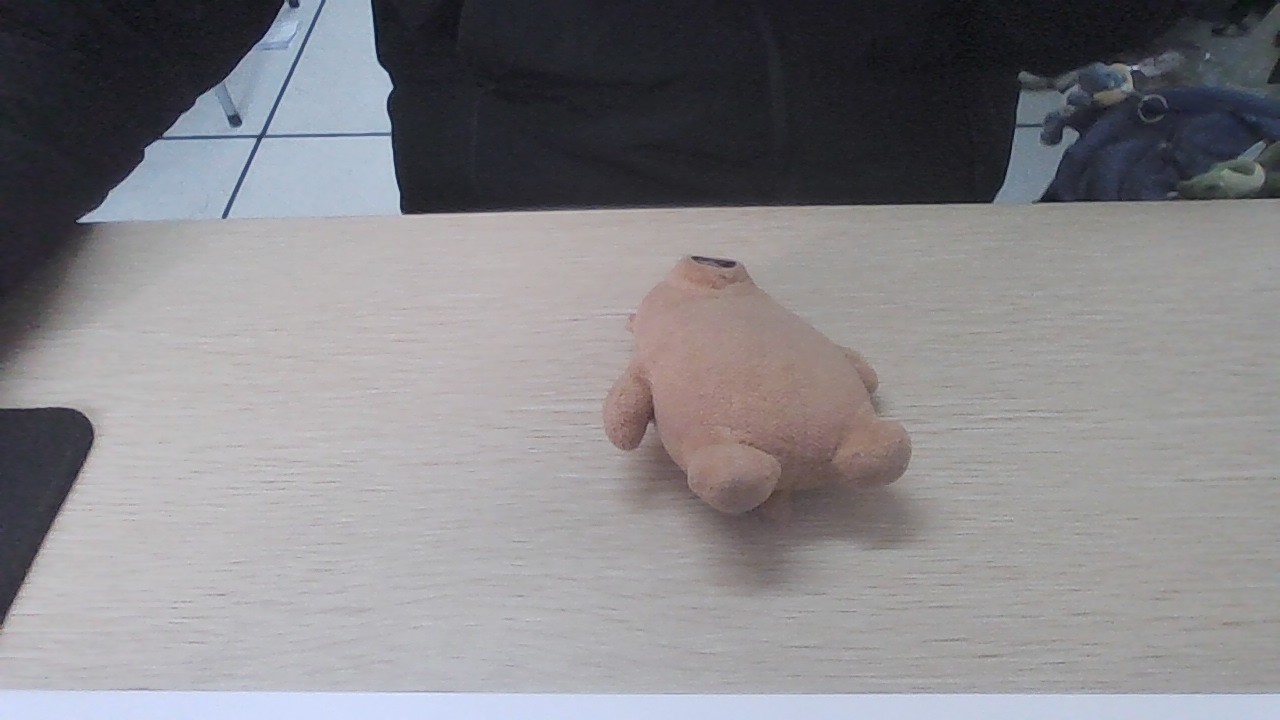KHS-doll: (604, 260, 891, 504)
